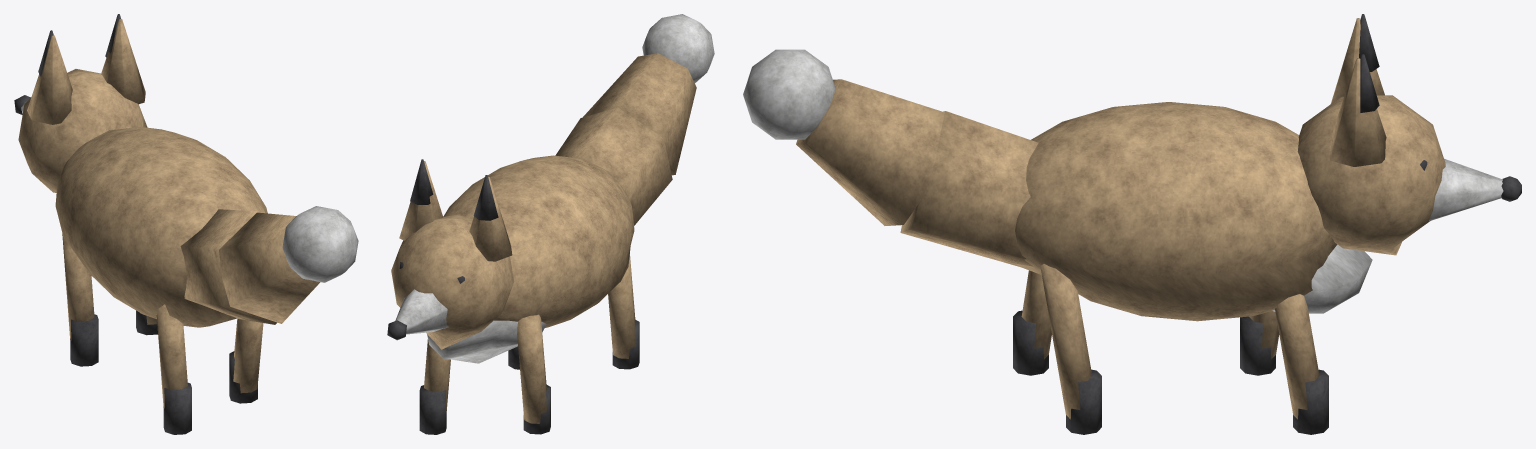
File: mob_rubah_walk4.obj
3 renders of one model, left to right at view 1: azimuth 30°, elevation 25°; view 2: azimuth 150°, elevation 25°; view 3: azimuth 270°, elevation 25°, orthographic. The views are drawn at different scales.
Visible parts, largest first — view 1: mob_rubah; view 2: mob_rubah; view 3: mob_rubah.
Part boxes in pixels (x1,y1,x2,y2): mob_rubah: (14,14,358,434); mob_rubah: (387,14,714,434); mob_rubah: (743,14,1521,434).
Size of the model in its own units: 0.3759 by 0.6695 by 1.29.
1 material, 1 textured.
